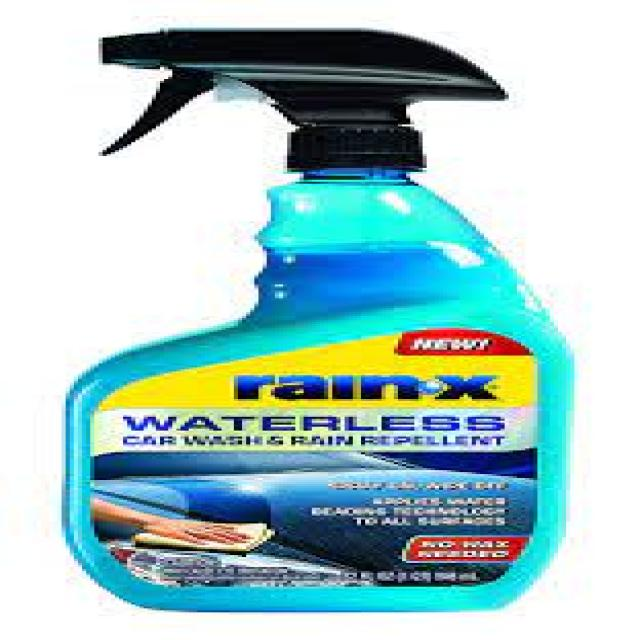winwinshield_washer: (52, 24, 580, 614)
